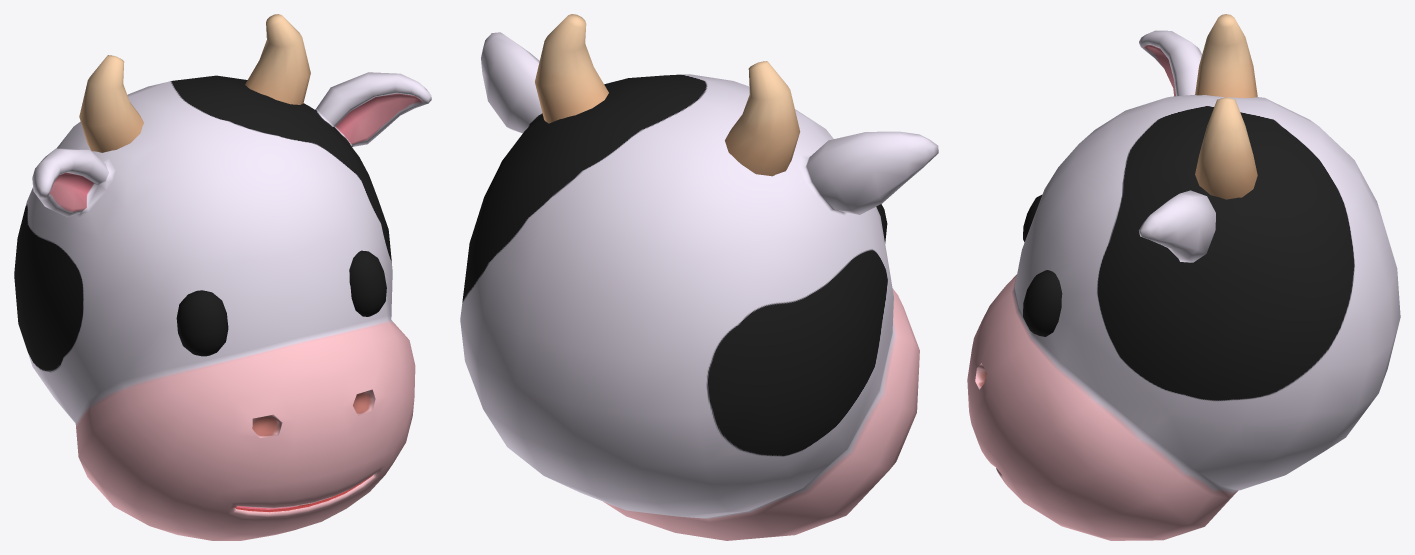
The model's file is CowHead.FBX.
The picture shows the model from 3 angles, left to right: view 1: azimuth 30°, elevation 25°; view 2: azimuth 150°, elevation 25°; view 3: azimuth 270°, elevation 25°; orthographic projection. The views are drawn at different scales.
Visible parts, largest first — view 1: CowHead; view 2: CowHead; view 3: CowHead.
Part boxes in pixels (<box>): CowHead: <box>14,14,431,540</box>; CowHead: <box>460,14,938,540</box>; CowHead: <box>967,14,1400,540</box>.
Bounding box in the file's own units: 46.84 × 51.63 × 44.12.
4 materials, 4 textured.
